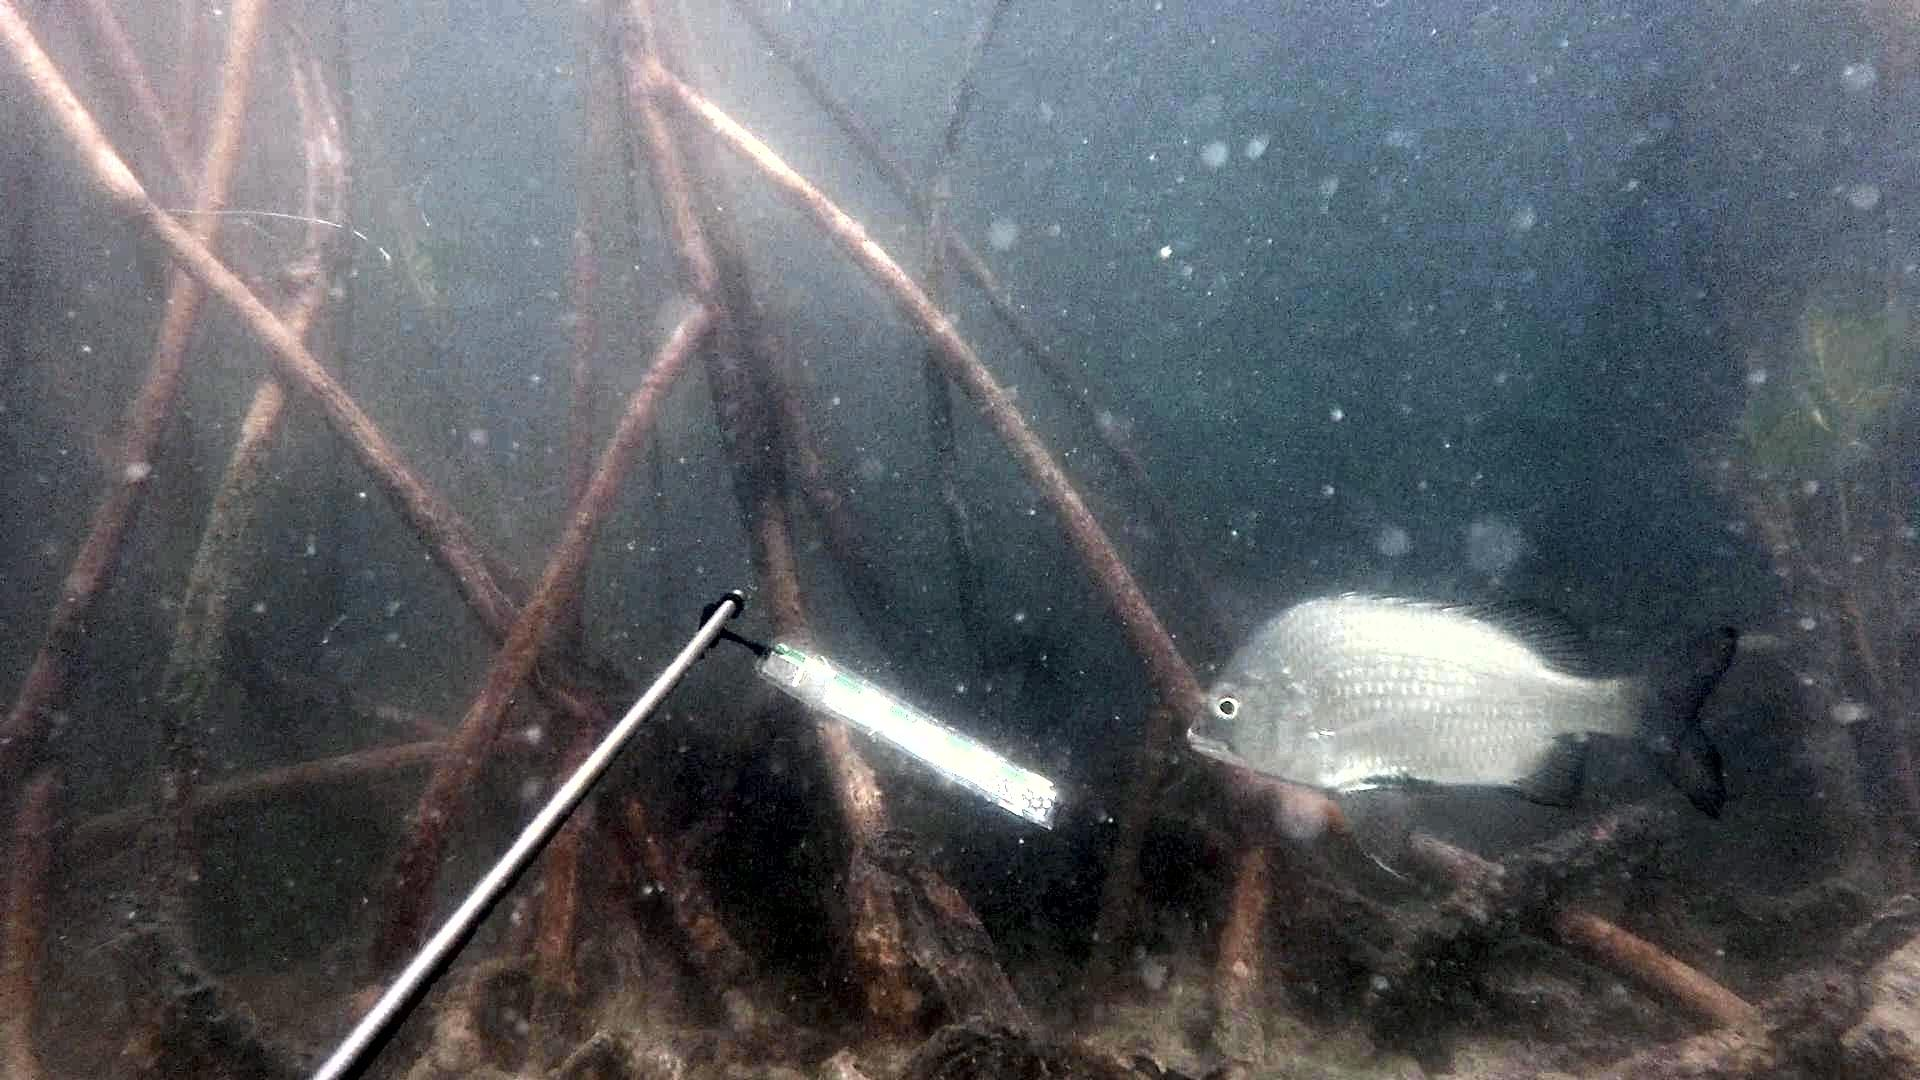acanthopagrus palmaris: (1179, 584, 1749, 884)
